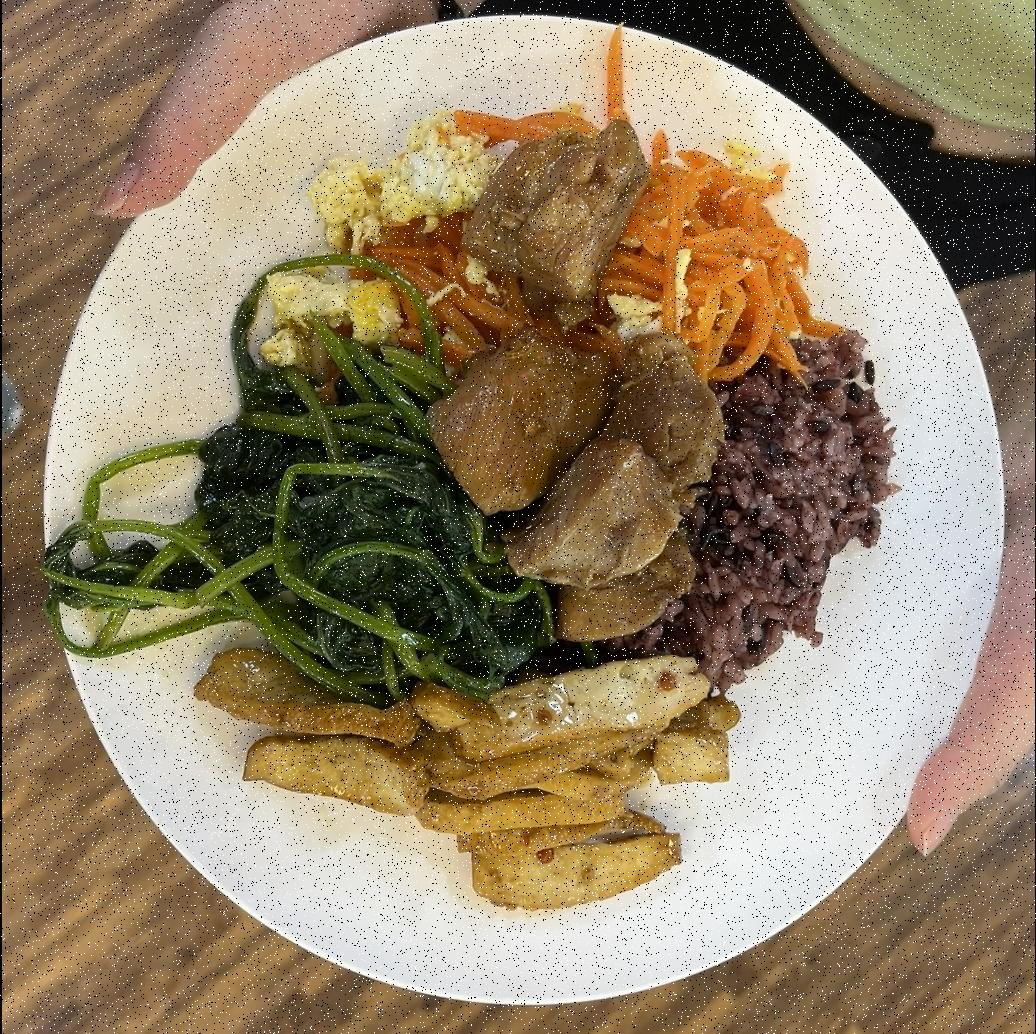plate: (47, 8, 987, 1000)
purple rice: (684, 317, 904, 690)
side dish: (51, 366, 544, 690), (203, 642, 744, 907), (303, 98, 802, 370)
three cup chicken: (438, 126, 729, 672)
